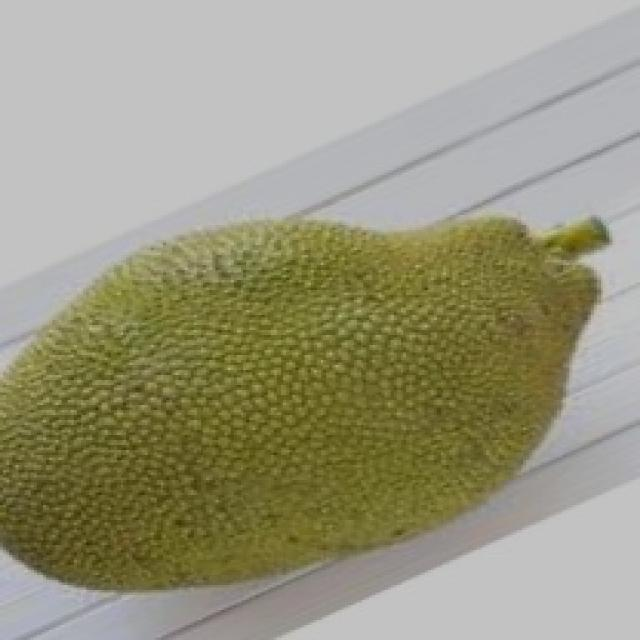Fruit: (0, 208, 394, 630), (246, 180, 631, 568)
